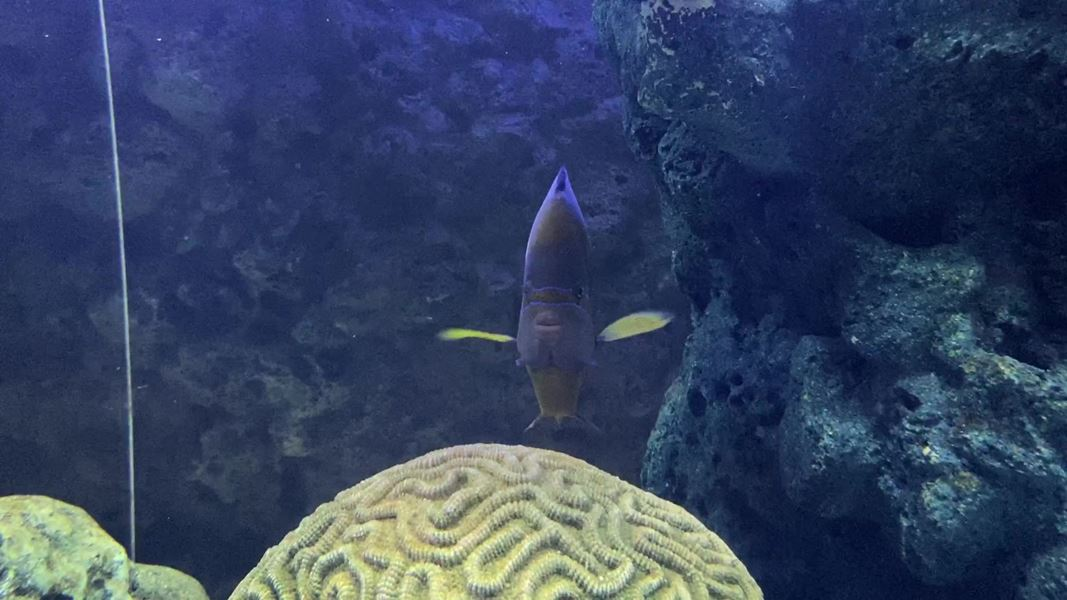Blue ring angelfish: (420, 148, 710, 457)
